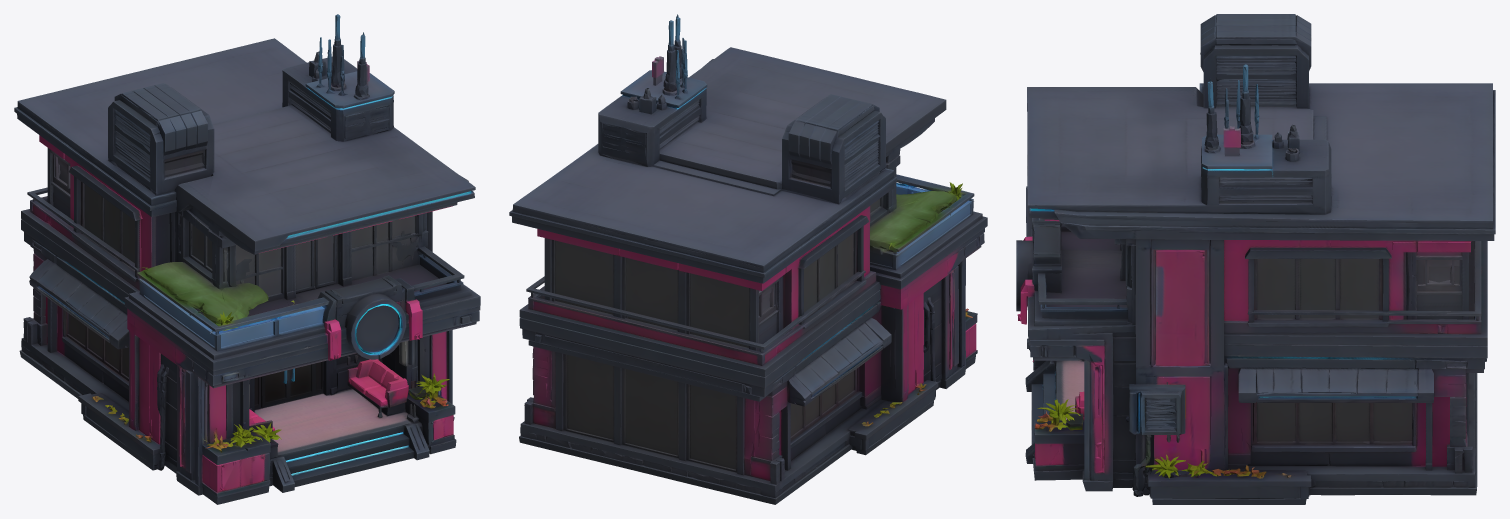
The model's file is source.glb.
The picture shows the model from 3 angles, left to right: view 1: azimuth 30°, elevation 25°; view 2: azimuth 150°, elevation 25°; view 3: azimuth 270°, elevation 25°; orthographic projection. The views are drawn at different scales.
Parts seen in each view (by area): view 1: model; view 2: model; view 3: model.
Part boxes in pixels (left/top/right/bottom): model: left=14, top=14, right=480, bottom=504; model: left=509, top=14, right=987, bottom=504; model: left=1016, top=14, right=1495, bottom=504.
Size of the model in its own units: 1.51 by 1.77 by 1.89.
1 material, 1 textured.
